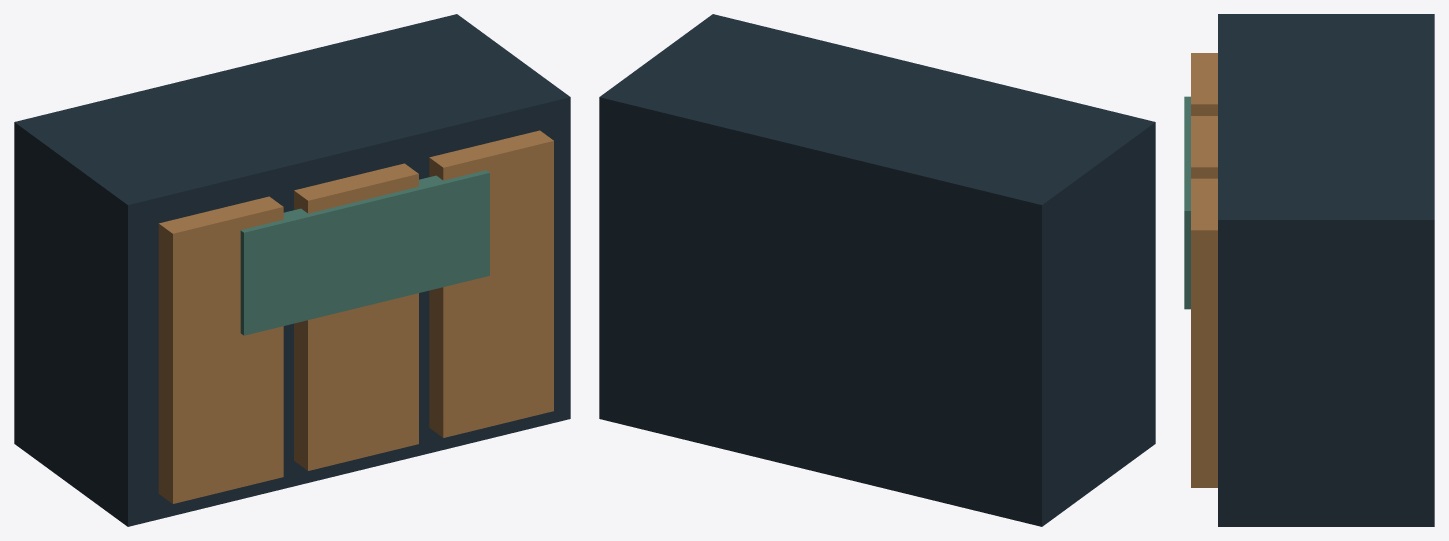
3 views of the same model, side by side, from view 1: azimuth 30°, elevation 25°; view 2: azimuth 150°, elevation 25°; view 3: azimuth 270°, elevation 25° (orthographic). The views are drawn at different scales.
Visible parts, largest first — view 1: c4_case, c4_charge, c4_charge.002, c4_display, c4_charge.001; view 2: c4_case; view 3: c4_case, c4_charge.002, c4_charge, c4_charge.001, c4_display.
Part boxes in pixels (x1,y1,x2,y2): c4_case: (14, 14, 570, 526); c4_charge: (158, 196, 283, 503); c4_charge.002: (429, 130, 553, 437); c4_display: (240, 170, 489, 335); c4_charge.001: (294, 163, 418, 470); c4_case: (599, 14, 1155, 526); c4_case: (1218, 14, 1434, 526); c4_charge.002: (1191, 178, 1217, 487); c4_charge: (1191, 53, 1217, 115); c4_charge.001: (1191, 116, 1217, 178); c4_display: (1184, 96, 1190, 309).
Bounding box in the file's own units: 0.36 × 0.25 × 0.185.
